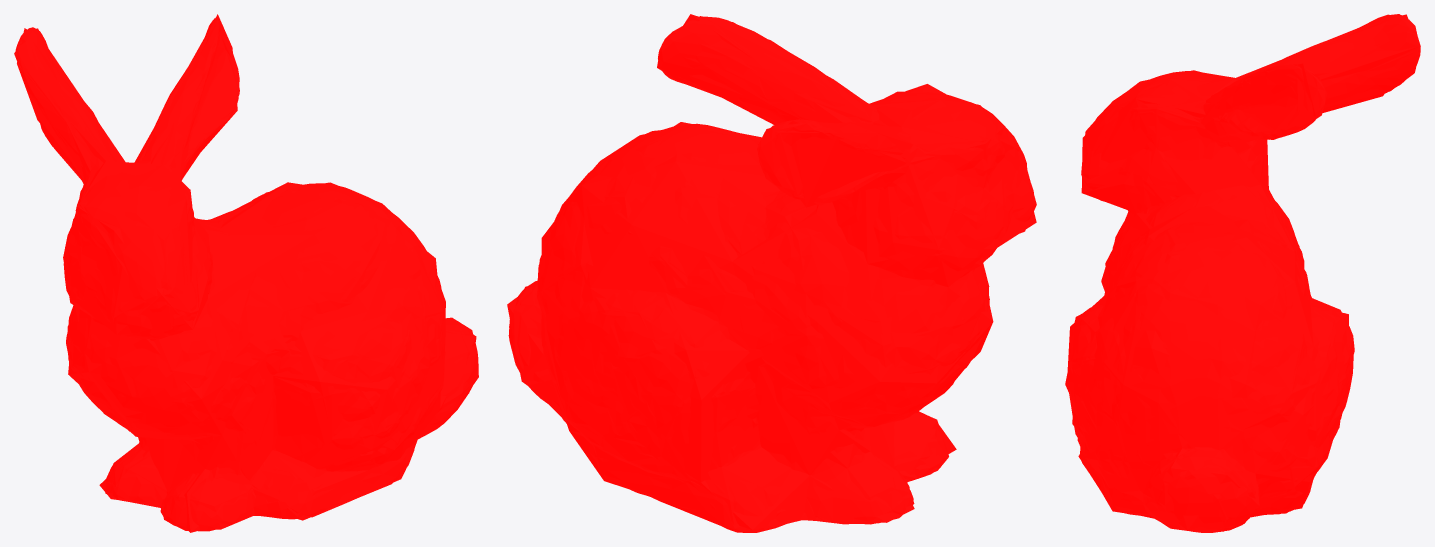
The model's file is bunny.glb.
3 views of the same model, side by side, from view 1: azimuth 30°, elevation 25°; view 2: azimuth 150°, elevation 25°; view 3: azimuth 270°, elevation 25° (orthographic). The views are drawn at different scales.
Parts seen in each view (by area): view 1: high, mid, low; view 2: high, low, mid; view 3: high, mid, low.
Boxes of the visible parts, box(x1,y1,x2,y2) form: high: box(15, 18, 477, 531); mid: box(14, 21, 478, 530); low: box(17, 14, 476, 532); high: box(508, 16, 1033, 532); low: box(507, 14, 1036, 529); mid: box(509, 16, 1036, 531); high: box(1066, 14, 1420, 532); mid: box(1065, 14, 1420, 531); low: box(1067, 14, 1418, 530).
Bounding box in the file's own units: 3.9 × 3.91 × 3.03.
